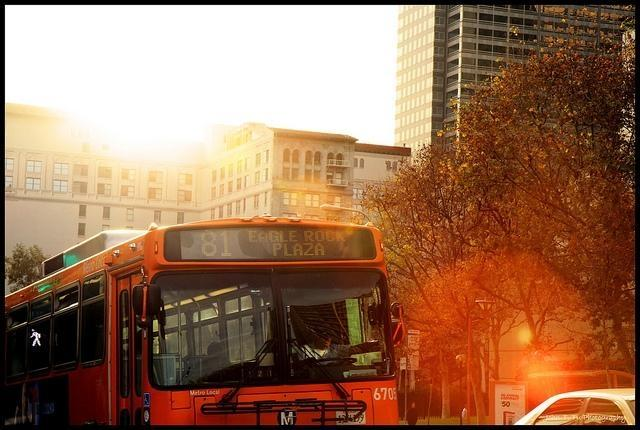bus: (0, 225, 402, 425)
car: (510, 386, 637, 426)
